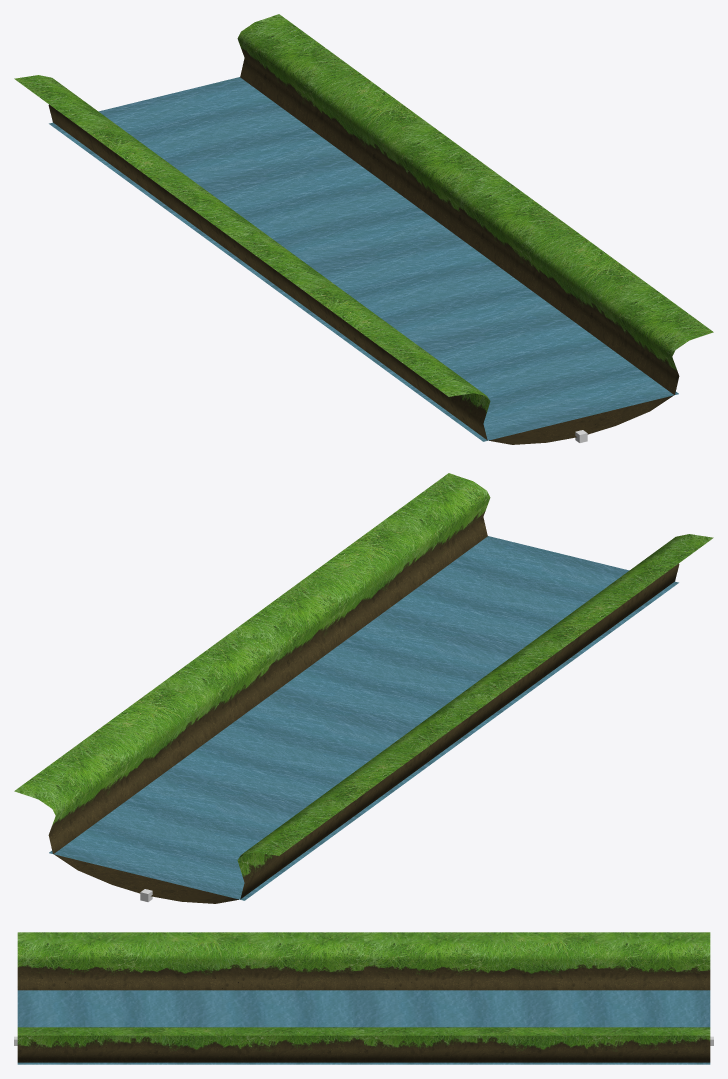
File: roadStraight.fbx
3 renders of one model, top to bottom at view 1: azimuth 30°, elevation 25°; view 2: azimuth 150°, elevation 25°; view 3: azimuth 270°, elevation 25°, orthographic. The views are drawn at different scales.
Parts seen in each view (by area): view 1: MESH roadStraight; view 2: MESH roadStraight; view 3: MESH roadStraight.
Boxes of the visible parts, x1=… form: MESH roadStraight: x1=14, y1=14, x2=713, y2=444; MESH roadStraight: x1=14, y1=473, x2=713, y2=903; MESH roadStraight: x1=17, y1=932, x2=710, y2=1064.
Size of what is drawn, in the model's own units: 1691 by 463 by 4850.
